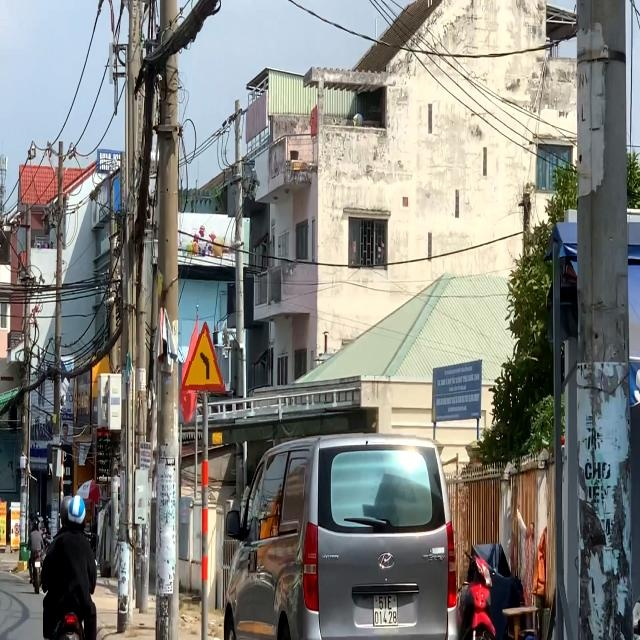bien_nguy_hiem: (182, 321, 226, 394)
